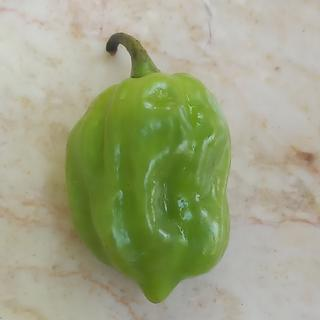Grade-A: (58, 67, 235, 304)
